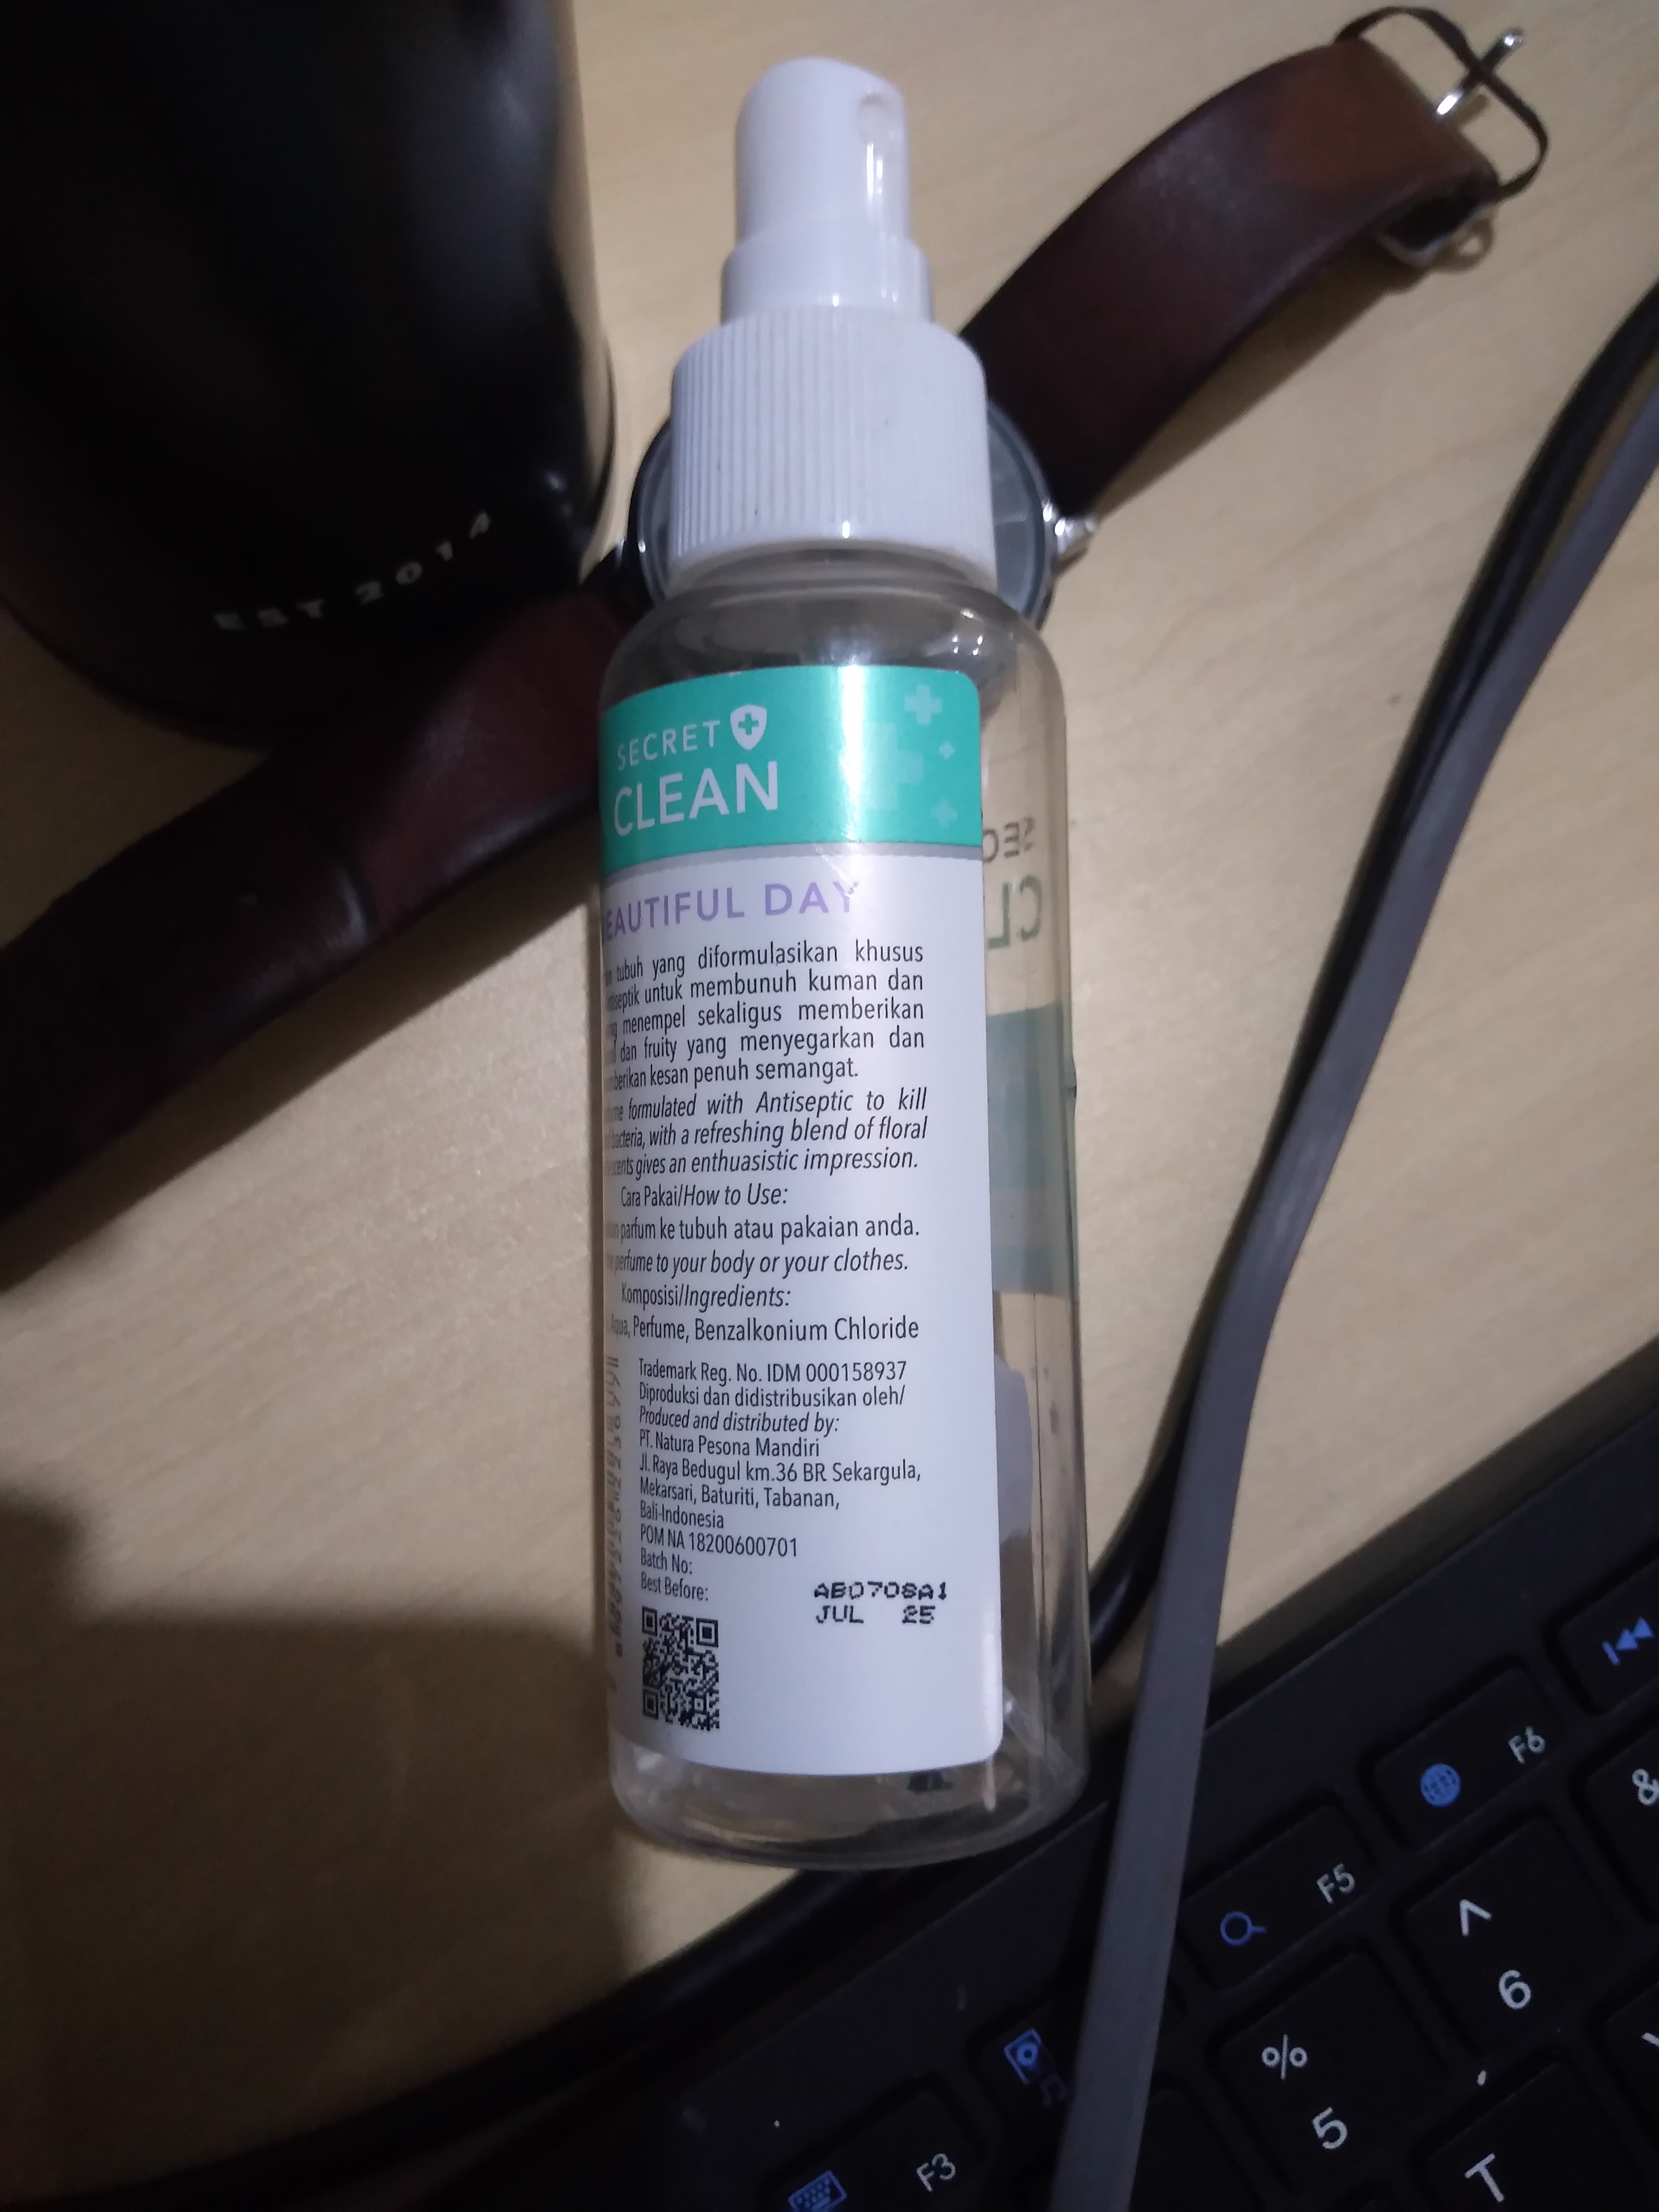hand sanitizer: (540, 49, 1180, 1926)
